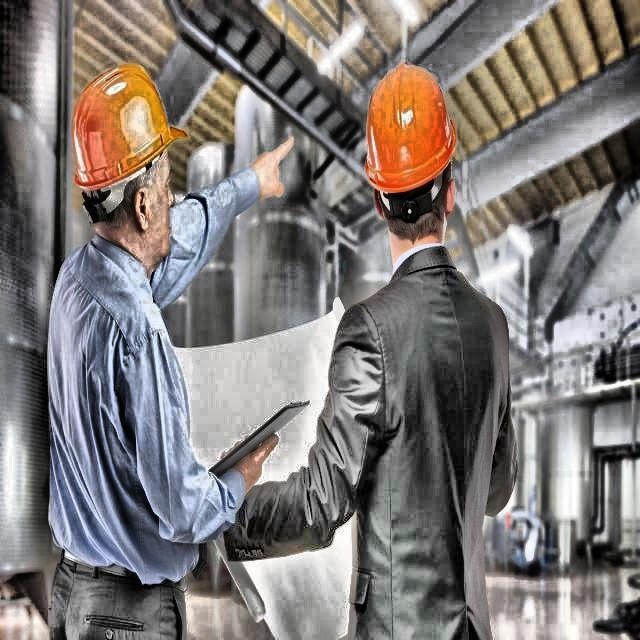person: (49, 66, 278, 640), (321, 69, 516, 640)
